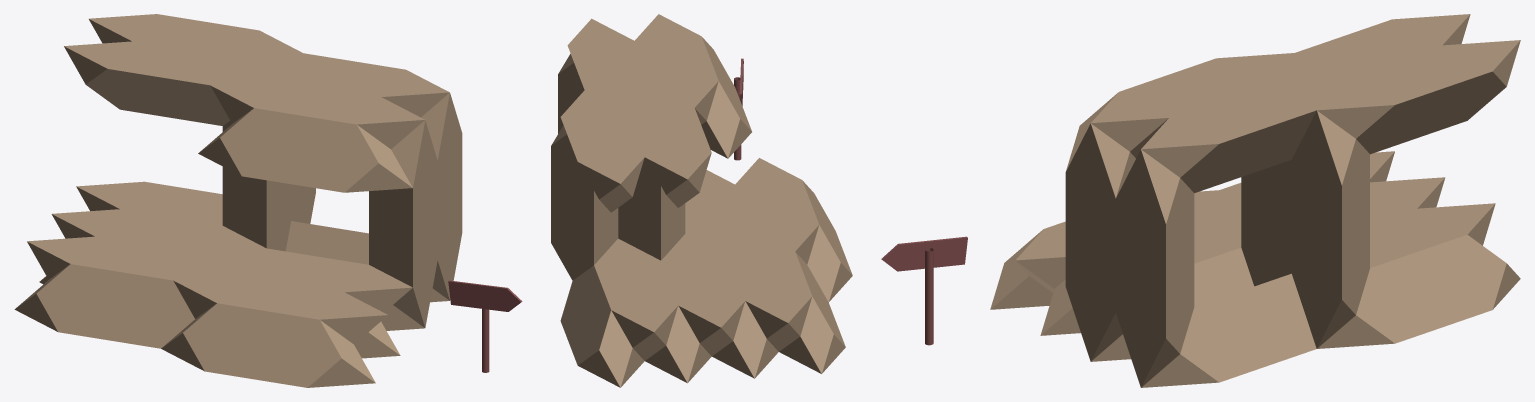
The picture shows the model from 3 angles, left to right: view 1: azimuth 30°, elevation 25°; view 2: azimuth 150°, elevation 25°; view 3: azimuth 270°, elevation 25°; orthographic projection. The views are drawn at different scales.
Parts seen in each view (by area): view 1: Piece, Object_2, Object_1; view 2: Piece; view 3: Piece, Object_2, Object_1.
Boxes of the visible parts, bbox=[...] form: Piece: bbox=[14, 14, 462, 387]; Object_2: bbox=[448, 280, 522, 311]; Object_1: bbox=[482, 309, 489, 372]; Piece: bbox=[551, 14, 852, 387]; Piece: bbox=[990, 14, 1520, 387]; Object_2: bbox=[881, 236, 967, 271]; Object_1: bbox=[925, 248, 933, 345].
Size of the model in its own units: 7.2 by 4 by 9.72.
